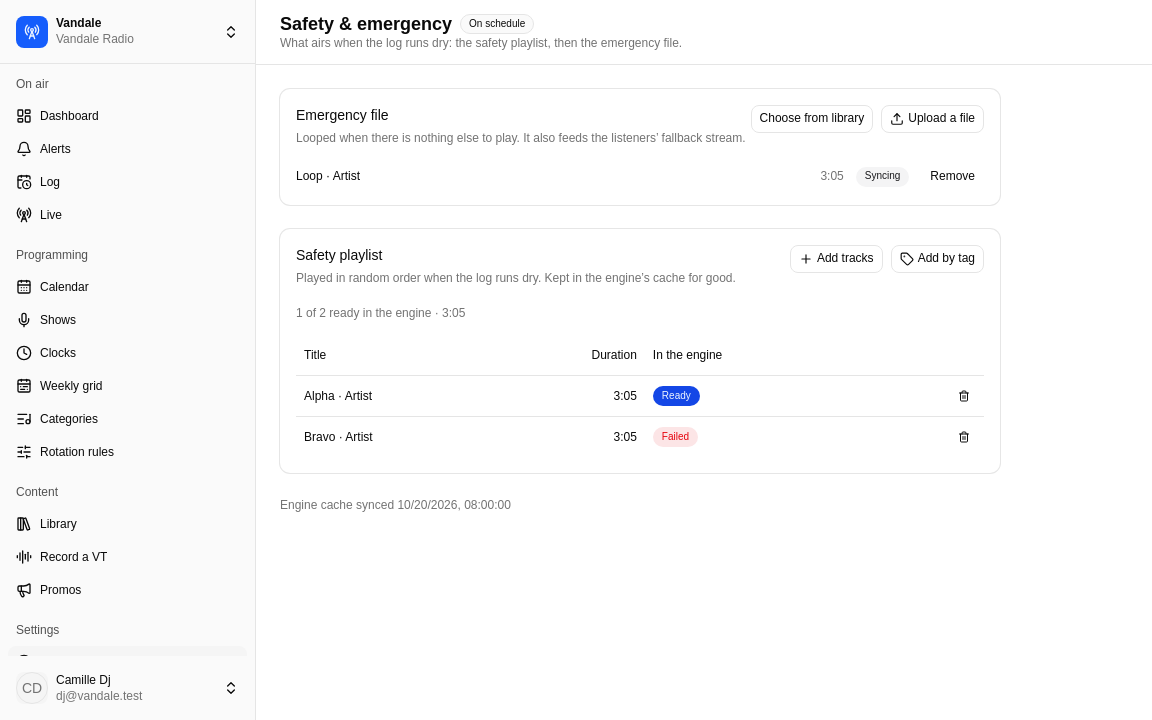
Test: safety settings page › chooses the emergency file from the library, or clears it
Click the button "Choose from library": coordinates (812, 119) x1=751 y1=105 x2=873 y2=133
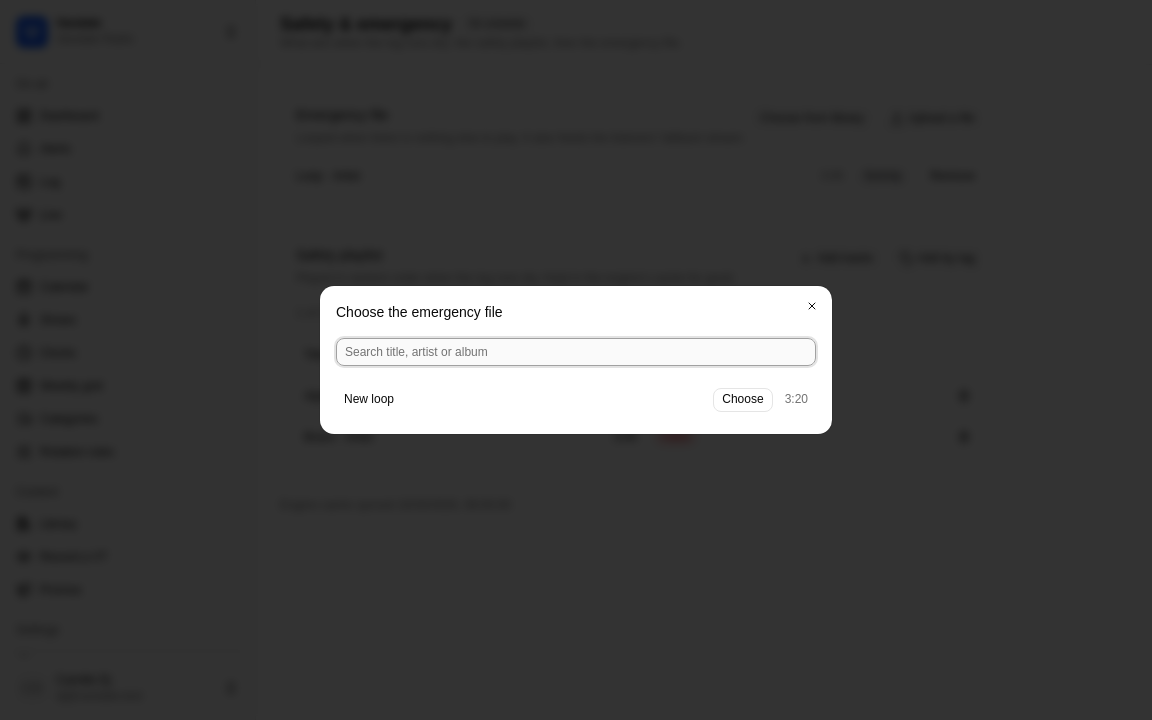
Click the button with aria-label "Choose: New loop": coordinates (743, 400) x1=713 y1=388 x2=773 y2=412
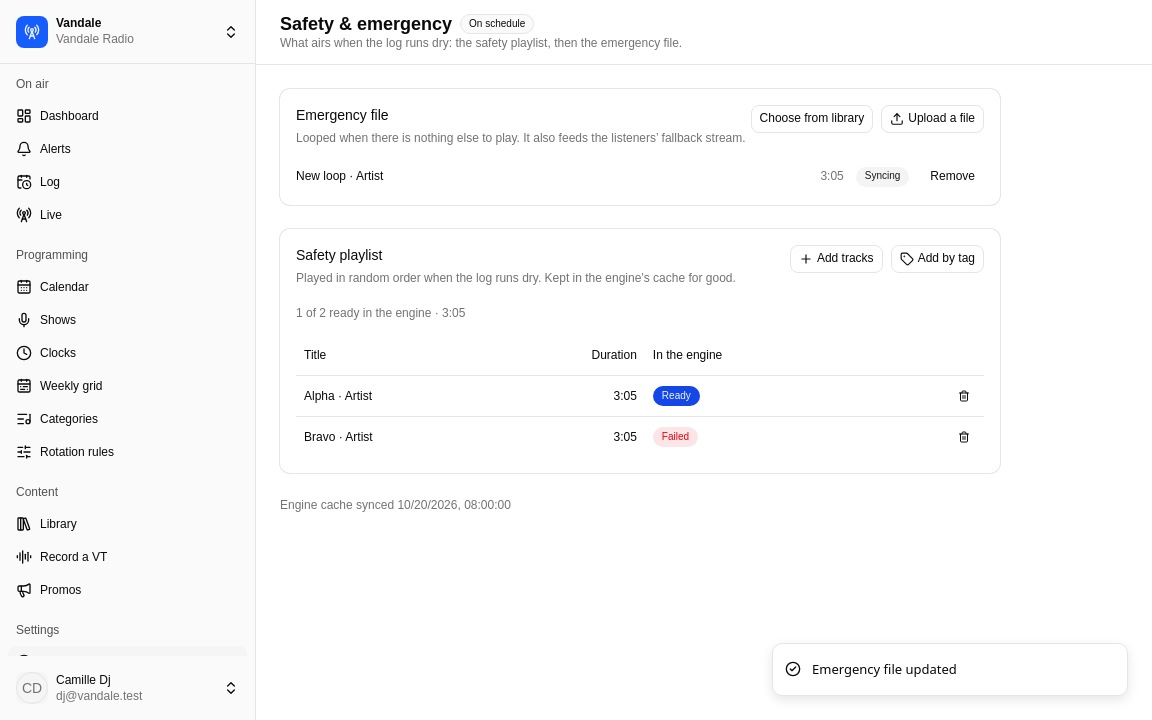
Expected: the text "New loop · Artist" is shown, x1=296 y1=169 x2=383 y2=183
Click the button "Remove": coordinates (953, 176) x1=921 y1=164 x2=984 y2=188
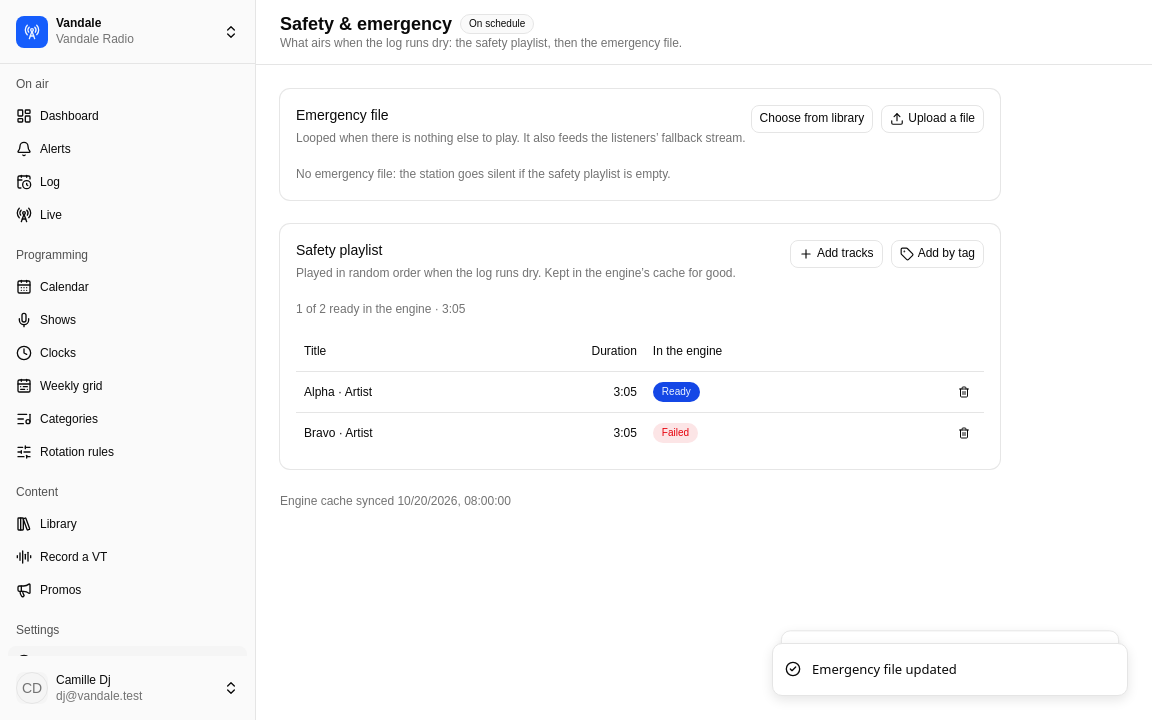
Expected: the text "No emergency file: the station goes silent if the safety playlist is empty." is shown, x1=296 y1=166 x2=671 y2=180
